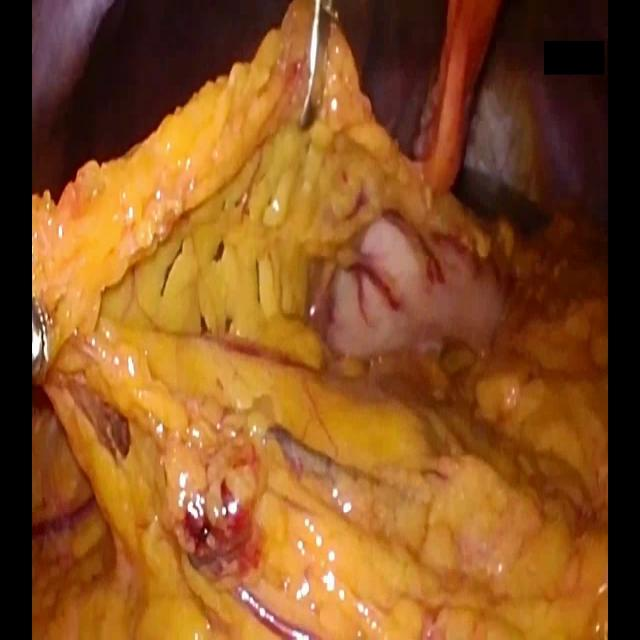surgical-area: (32, 0, 608, 639)
surgical-tool: (298, 0, 324, 126)
